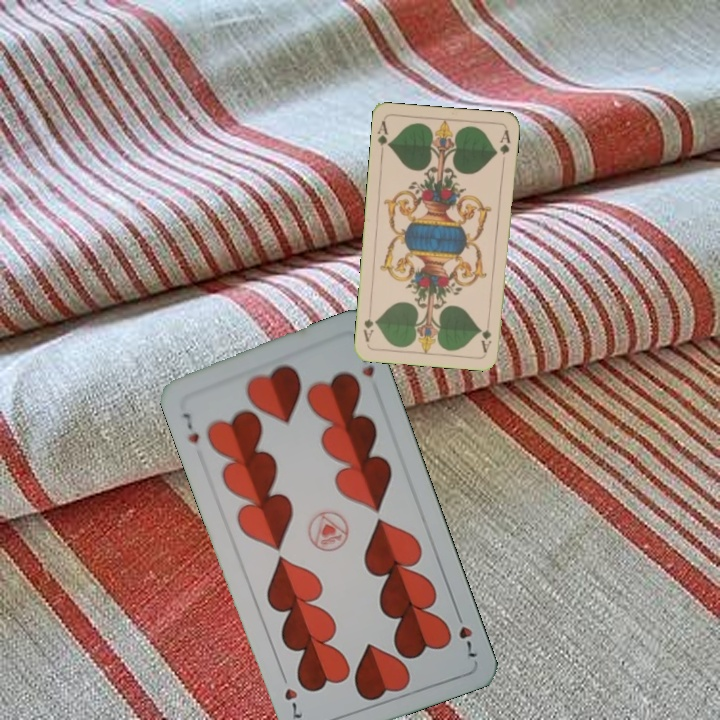GA: (373, 117, 393, 157), (478, 314, 494, 355)
H7: (450, 605, 480, 660), (178, 409, 202, 446)
